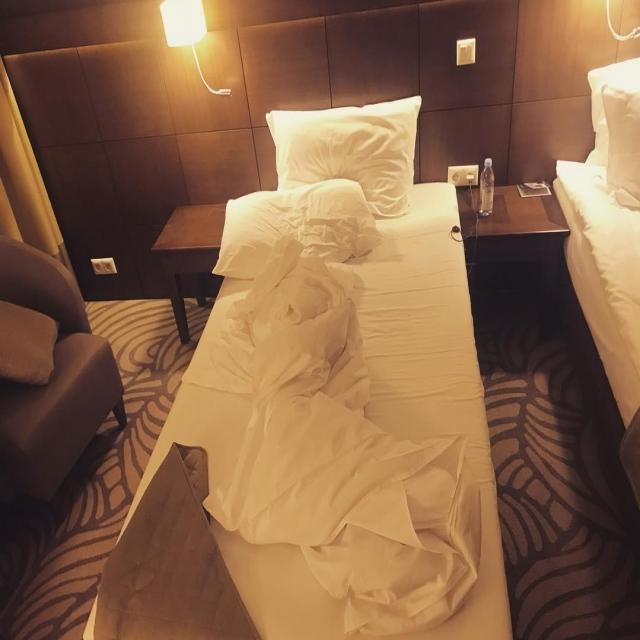bed: (179, 123, 462, 640)
